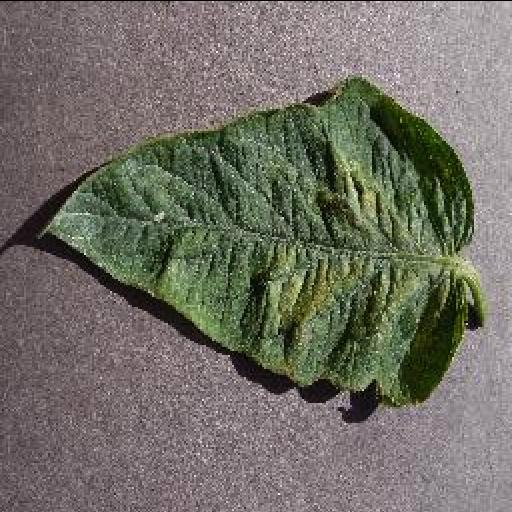disease_tomato: (38, 77, 472, 411)
